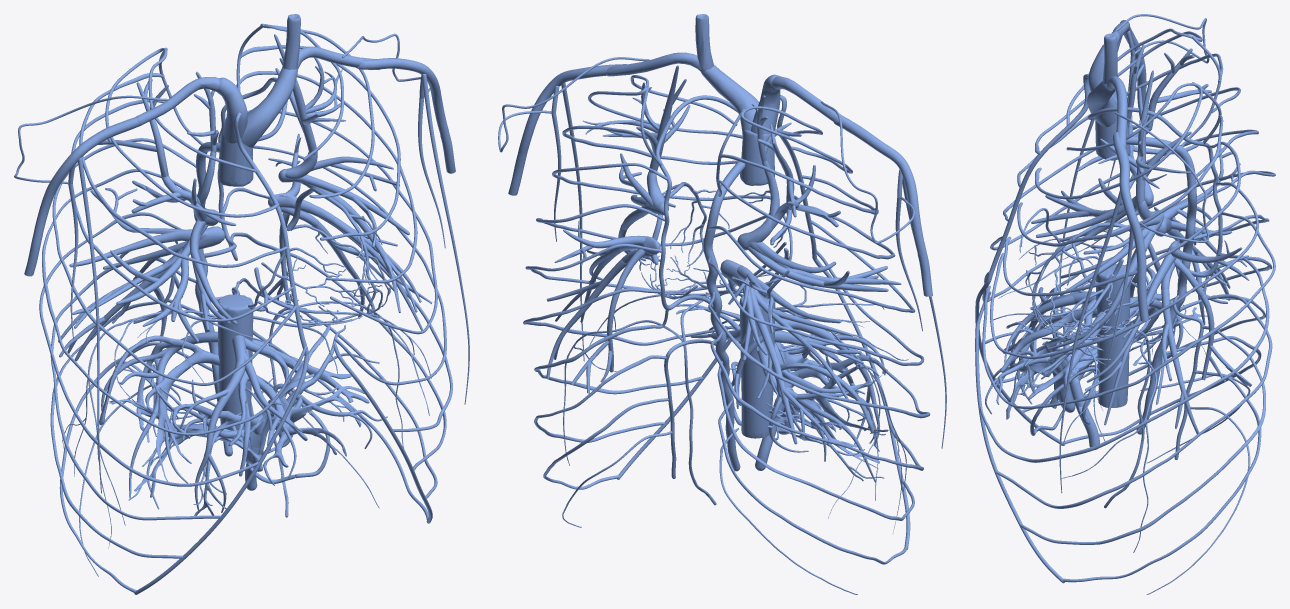
File: veines-thorax.hi.glb
The picture shows the model from 3 angles, left to right: view 1: azimuth 30°, elevation 25°; view 2: azimuth 150°, elevation 25°; view 3: azimuth 270°, elevation 25°; orthographic projection. The views are drawn at different scales.
Visible parts, largest first — view 1: FJ1994, FJ1985, FJ2404, FJ2416, FJ3441, FJ2269, FJ2217, FJ3482, FJ2414, FJ1996, FJ1993, FJ3645 (+21 smaller); view 2: FJ1994, FJ1985, FJ3441, FJ3416, FJ2269, FJ2416, FJ2404, FJ2217, FJ1981, FJ3482, FJ3645, FJ3486 (+21 smaller); view 3: FJ1985, FJ1994, FJ3441, FJ3416, FJ2404, FJ2217, FJ1988, FJ1993, FJ1981, FJ2414, FJ2233, FJ3482 (+33 smaller).
Part boxes in pixels (box(x1,y1,x2,y2)): FJ1994: box(39, 48, 307, 592); FJ1985: box(223, 23, 452, 519); FJ2404: box(154, 324, 364, 515); FJ2416: box(99, 335, 219, 481); FJ3441: box(217, 294, 253, 430); FJ2269: box(24, 117, 139, 276); FJ2217: box(356, 58, 455, 173); FJ3482: box(241, 67, 297, 147); FJ2414: box(228, 349, 307, 476); FJ1996: box(134, 354, 308, 594); FJ1993: box(233, 112, 308, 355); FJ3645: box(217, 131, 253, 186); FJ1994: box(707, 106, 930, 594); FJ1985: box(523, 75, 786, 527); FJ3441: box(739, 291, 775, 438); FJ3416: box(703, 157, 745, 471); FJ2269: box(833, 120, 932, 296); FJ2416: box(772, 362, 888, 446); FJ2404: box(676, 307, 887, 451); FJ2217: box(508, 64, 626, 195); FJ1981: box(655, 95, 737, 313); FJ3482: box(700, 65, 759, 136); FJ3645: box(740, 130, 774, 185); FJ3486: box(606, 52, 700, 76); FJ1985: box(979, 83, 1275, 594); FJ1994: box(982, 28, 1275, 463); FJ3441: box(1095, 263, 1130, 407); FJ3416: box(1126, 135, 1196, 434); FJ2404: box(995, 274, 1103, 419); FJ2217: box(1113, 131, 1148, 321); FJ1988: box(975, 291, 1064, 583); FJ1993: box(987, 73, 1090, 282); FJ1981: box(1087, 107, 1222, 277); FJ2414: box(1000, 307, 1097, 372); FJ2233: box(1059, 191, 1121, 493); FJ3482: box(1087, 81, 1117, 126).
Size of the model in its own units: 0.3143 by 0.371 by 0.198.
